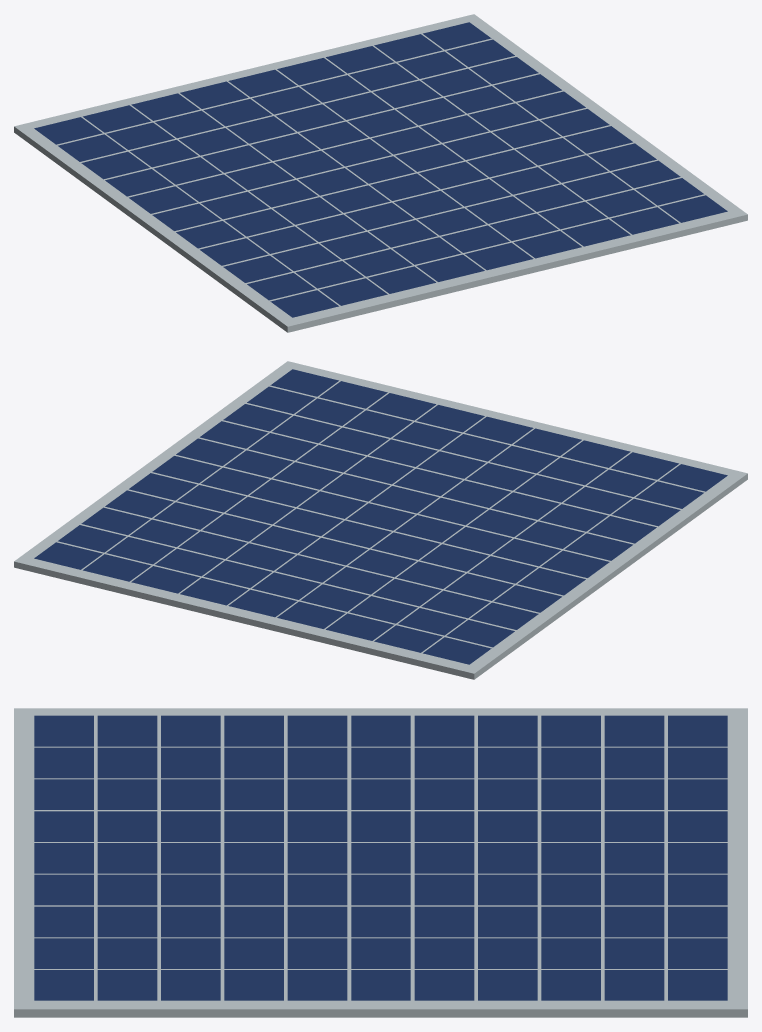
The model's file is orion_esm.wing_03.panel_01.panel_02.panel_03.glb.
3 views of the same model, one above another, from view 1: azimuth 30°, elevation 25°; view 2: azimuth 150°, elevation 25°; view 3: azimuth 270°, elevation 25° (orthographic). The views are drawn at different scales.
Visible parts, largest first — view 1: orion_esm.wing_03.panel_01.panel_02.panel_03.cells.mesh_Indi, orion_esm.wing_03.panel_01.panel_02.panel_03.cells.mesh_Sati; view 2: orion_esm.wing_03.panel_01.panel_02.panel_03.cells.mesh_Indi, orion_esm.wing_03.panel_01.panel_02.panel_03.cells.mesh_Sati; view 3: orion_esm.wing_03.panel_01.panel_02.panel_03.cells.mesh_Indi, orion_esm.wing_03.panel_01.panel_02.panel_03.cells.mesh_Sati.
Part boxes in pixels (x1,y1,x2,y2): orion_esm.wing_03.panel_01.panel_02.panel_03.cells.mesh_Indi: (34, 22, 727, 317); orion_esm.wing_03.panel_01.panel_02.panel_03.cells.mesh_Sati: (14, 14, 747, 332); orion_esm.wing_03.panel_01.panel_02.panel_03.cells.mesh_Indi: (34, 369, 727, 664); orion_esm.wing_03.panel_01.panel_02.panel_03.cells.mesh_Sati: (14, 361, 747, 679); orion_esm.wing_03.panel_01.panel_02.panel_03.cells.mesh_Indi: (34, 715, 727, 1000); orion_esm.wing_03.panel_01.panel_02.panel_03.cells.mesh_Sati: (14, 708, 747, 1017).
Size of the model in its own units: 1.65 by 0.0225 by 1.7.
